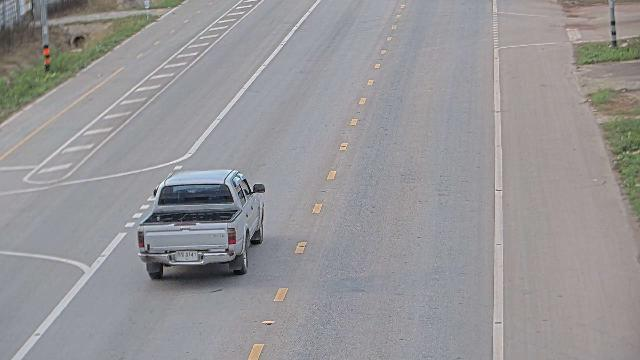pickup-truck: (136, 168, 265, 279)
